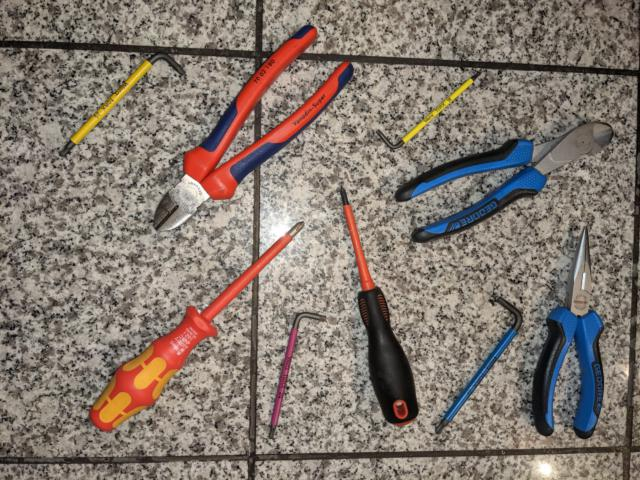Inbusschlüssel: (54, 49, 189, 160), (431, 286, 528, 439), (372, 69, 487, 154), (265, 307, 329, 443)
Schraubendreher: (85, 219, 311, 437), (336, 183, 423, 432)
Seitenschneider: (150, 18, 359, 235), (393, 119, 618, 247)
Zange: (524, 223, 611, 439)
